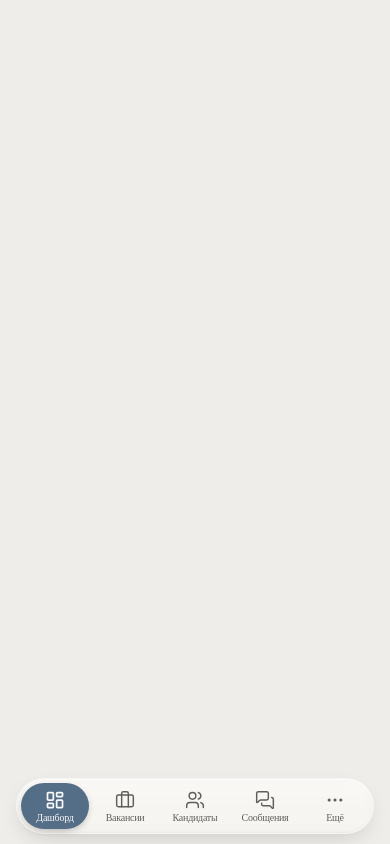
Test case: нижняя панель разделов › четыре вкладки и «Ещё», в шторке — только остальное
Check: the links read "Дашборд", "Вакансии", "Кандидаты", "Сообщения", in this order, box [21,783,89,829]; [106,790,144,822]; [173,790,218,822]; [242,790,288,822]
Step 1. Click the button "Ещё" → (335, 806), box [301,783,369,829]
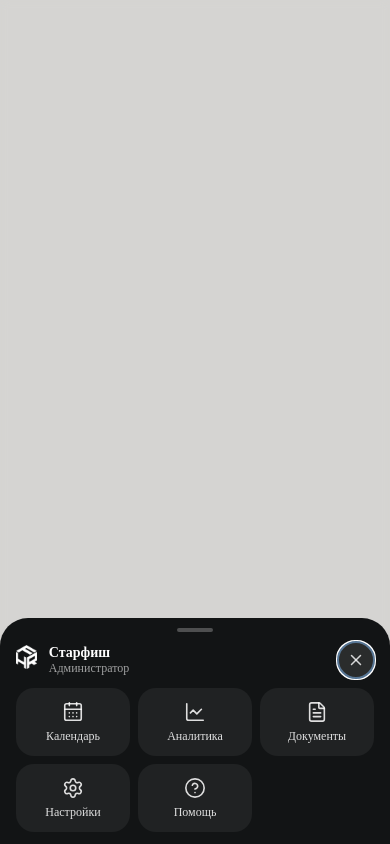
Check: the link does not show "Дашборд"
Check: the text "Календарь" is shown, box [46,728,100,744]
